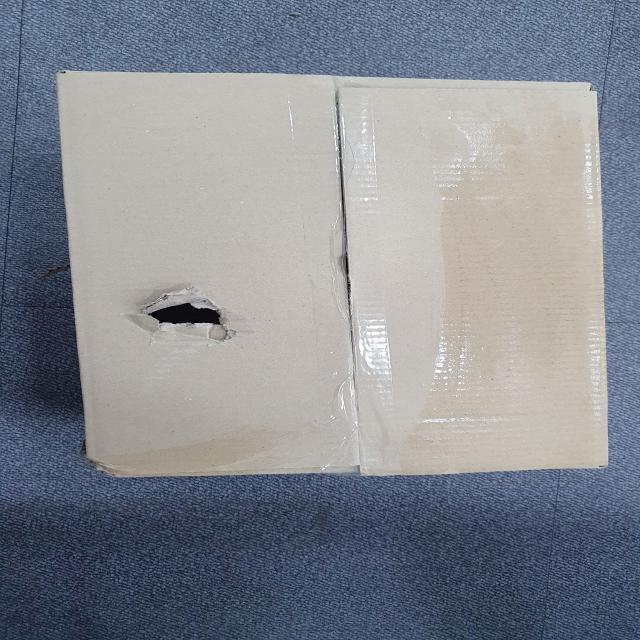hole: (119, 284, 239, 348)
